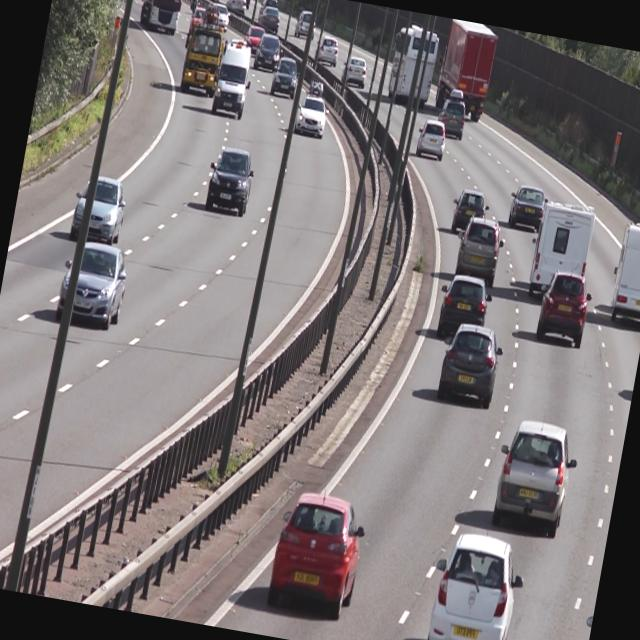Vehicle: (259, 484, 373, 635), (418, 528, 529, 640), (488, 415, 581, 534), (524, 195, 600, 306), (52, 238, 131, 332), (430, 18, 500, 123), (434, 320, 506, 410), (430, 271, 496, 349), (178, 5, 232, 99), (68, 165, 128, 248), (532, 270, 594, 348), (384, 23, 439, 108), (207, 32, 257, 124), (603, 211, 640, 331), (452, 213, 506, 286), (202, 144, 256, 215), (292, 77, 334, 140), (446, 182, 491, 240), (504, 184, 548, 232), (434, 90, 472, 142), (135, 0, 188, 34), (411, 115, 449, 162), (268, 50, 300, 100), (251, 30, 283, 76), (338, 48, 371, 91), (311, 30, 341, 67), (290, 4, 318, 41), (242, 18, 266, 58)
